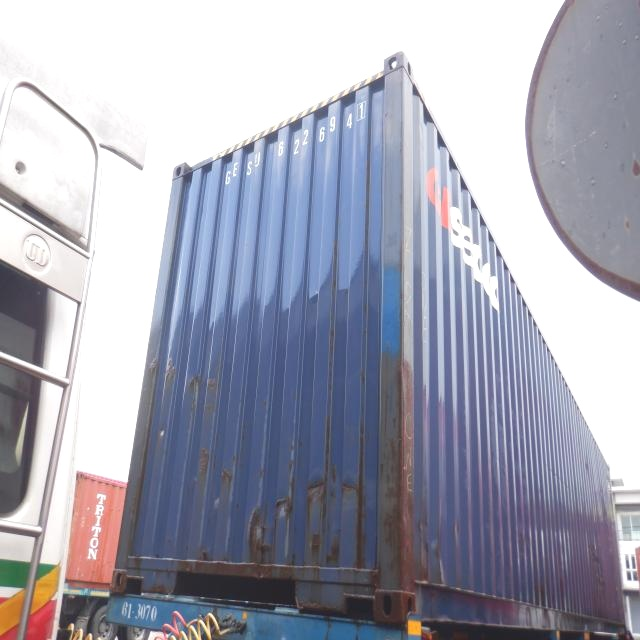Dent: (241, 497, 296, 567), (415, 492, 450, 588), (589, 487, 620, 591), (186, 369, 204, 416), (307, 476, 328, 506)
Rusty: (376, 357, 417, 588)
